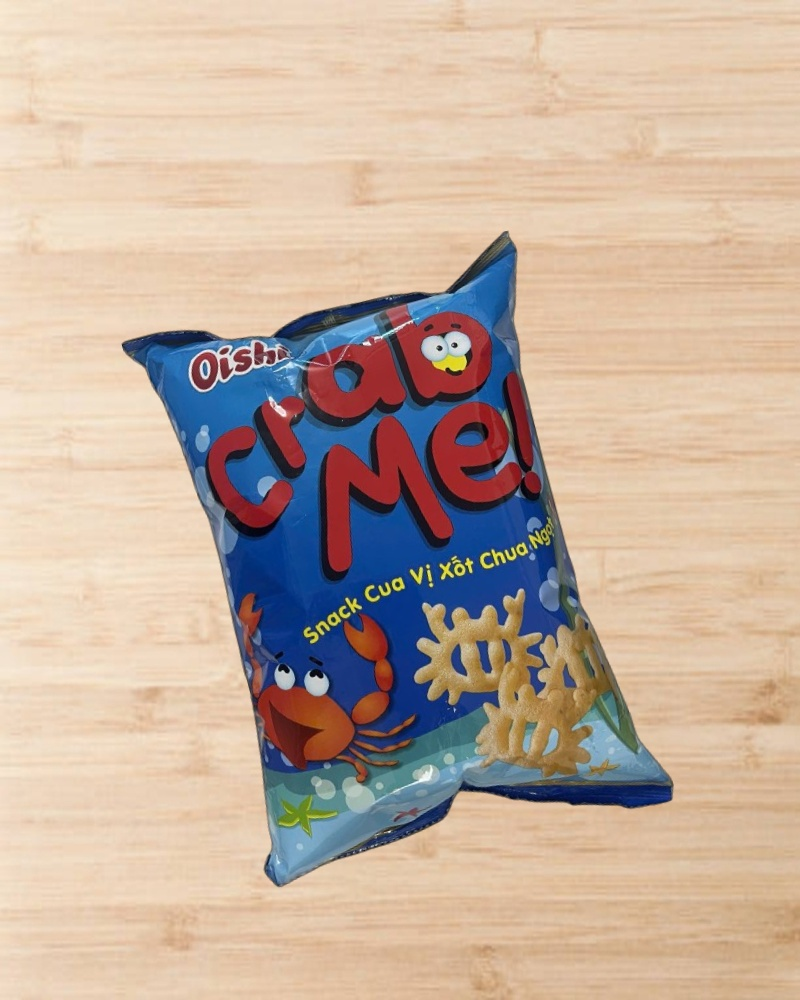Snack chay: (120, 227, 678, 909)
